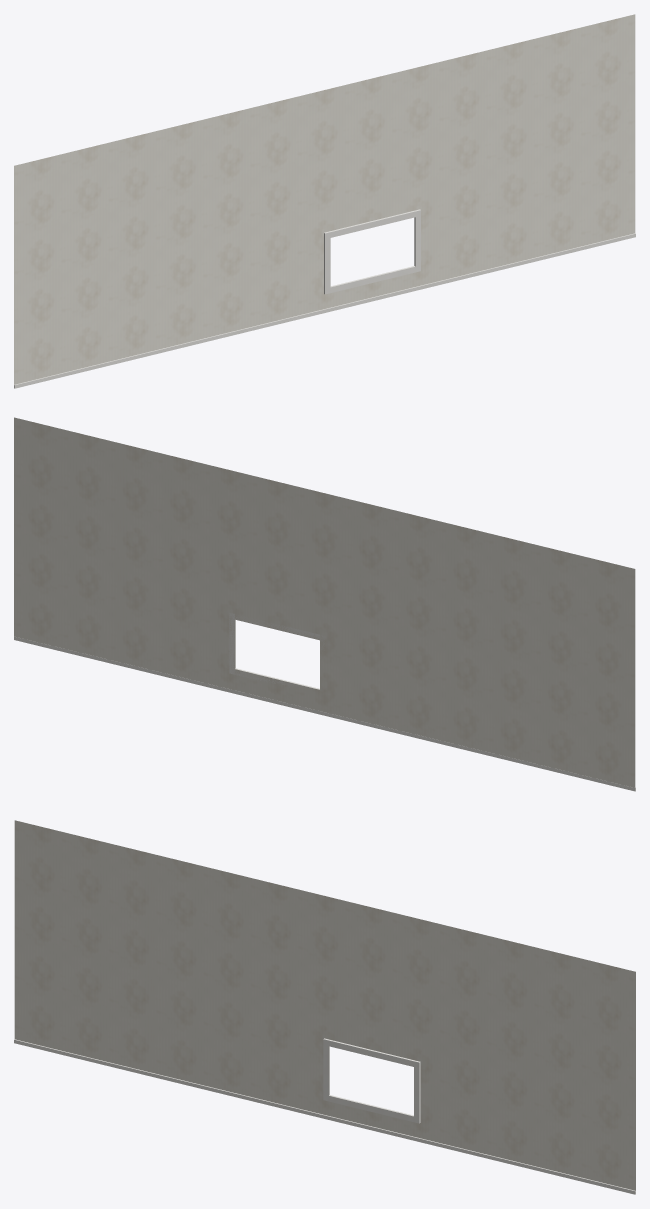
Rendered from wm_26_cbc42fc6.gltf.
3 views of the same model, one above another, from view 1: azimuth 30°, elevation 25°; view 2: azimuth 150°, elevation 25°; view 3: azimuth 330°, elevation 25° (orthographic).
Parts seen in each view (by area): view 1: jx_wm_26_cbc42fc6; view 2: jx_wm_26_cbc42fc6; view 3: jx_wm_26_cbc42fc6.
Part boxes in pixels (x1=…): jx_wm_26_cbc42fc6: x1=14, y1=14, x2=635, y2=388; jx_wm_26_cbc42fc6: x1=14, y1=417, x2=635, y2=791; jx_wm_26_cbc42fc6: x1=14, y1=820, x2=635, y2=1194.
Bounding box in the file's own units: 26.3 × 9 × 0.086.
Materials: 2 (2 with a texture image).
